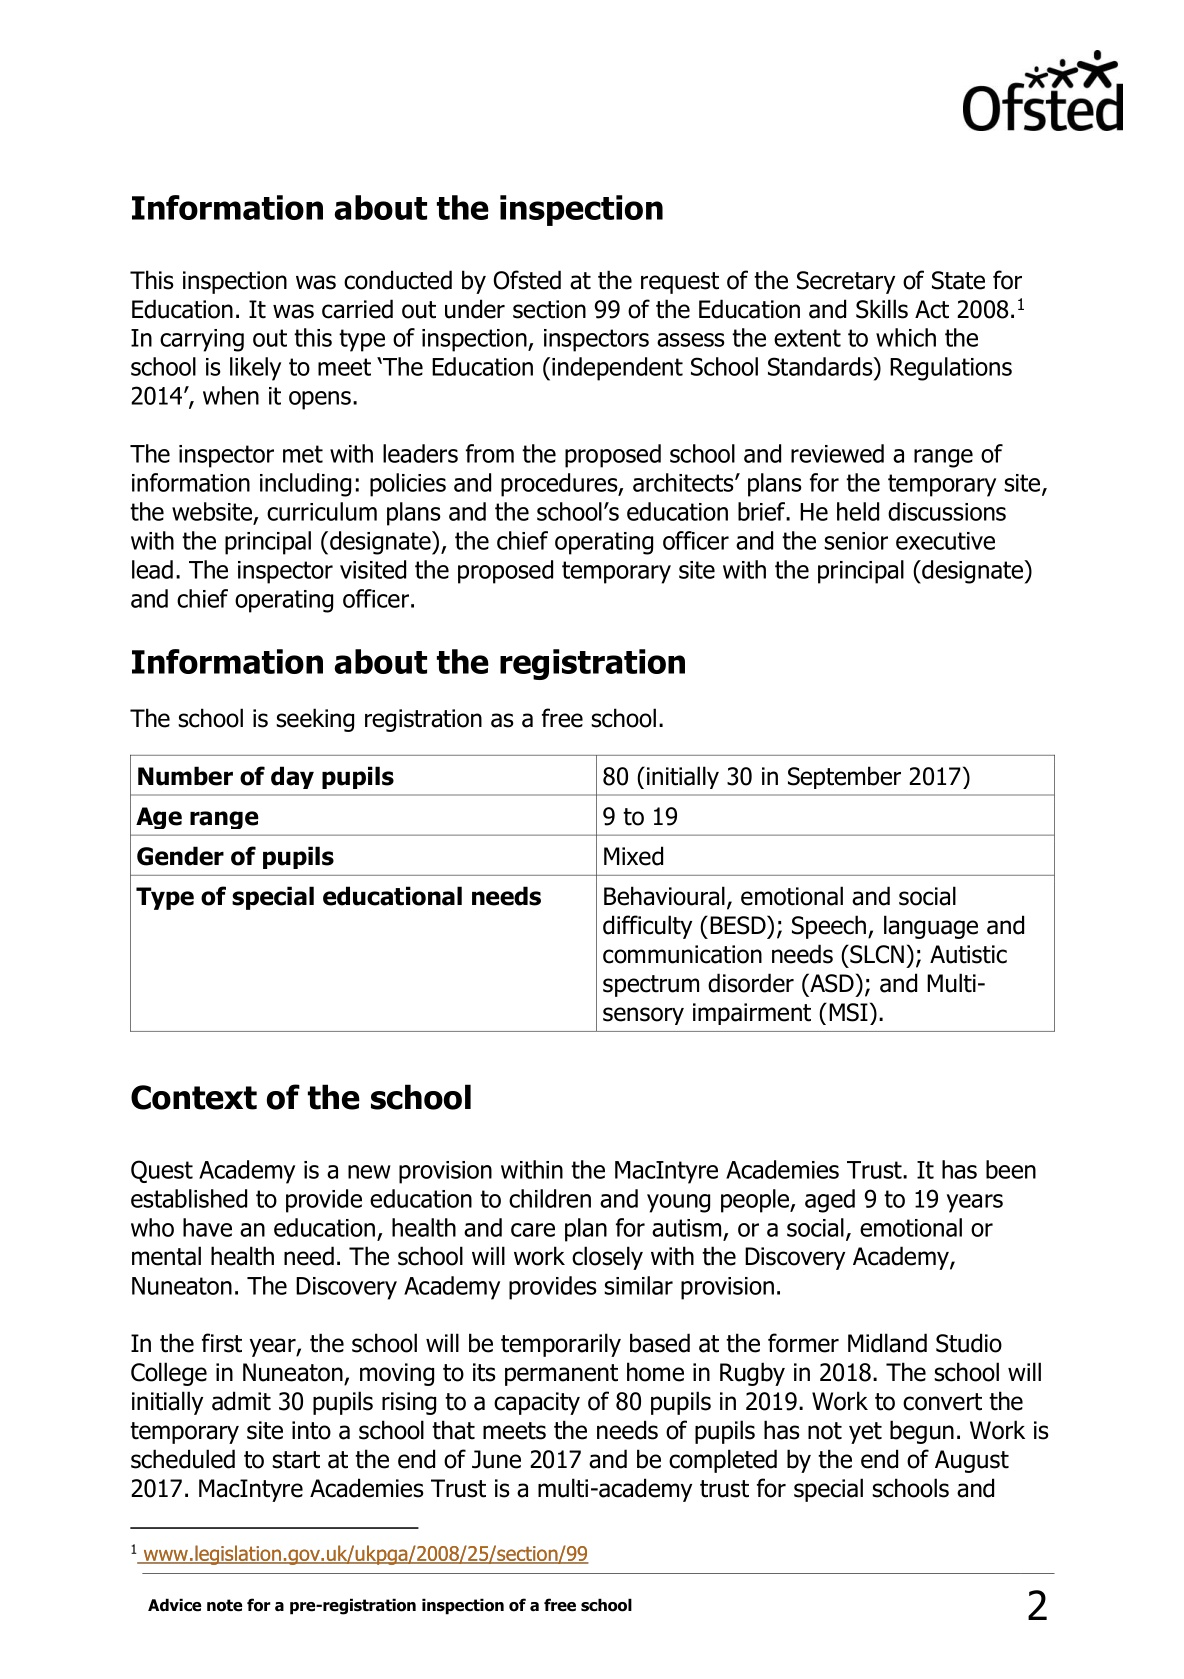full_lined: (129, 753, 1056, 1034)
